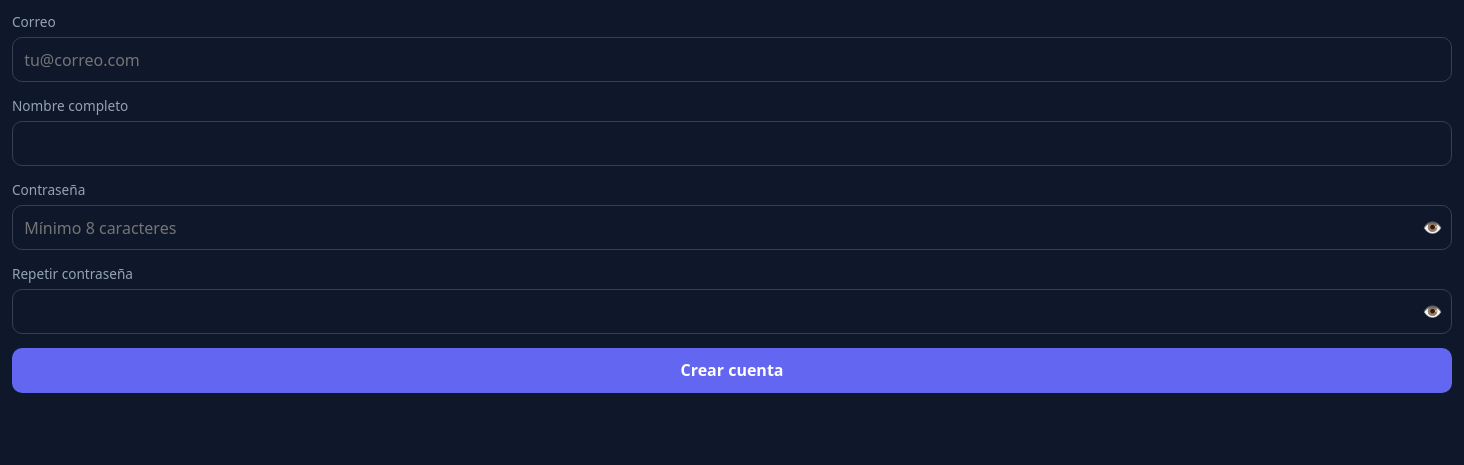
Test: RegisterForm › bloquea si las contraseñas no coinciden
This screenshot has width=1464, height=465.
Type "a@b.com" into the field labelled "Correo" at (732, 60), box [12,37,1452,82]
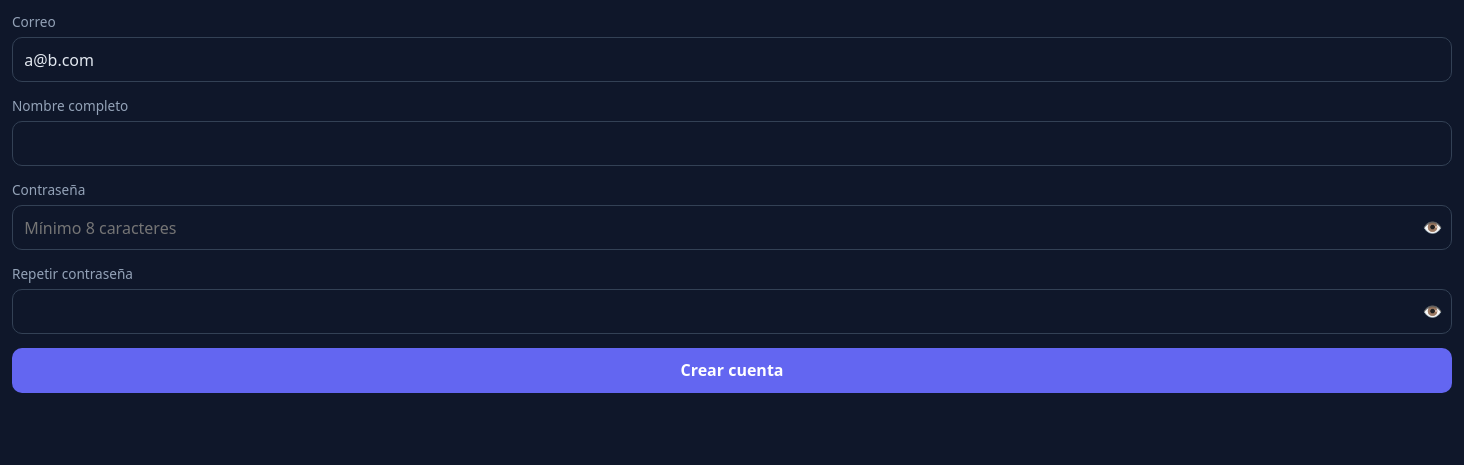
Type "Ana" into the field labelled "Nombre completo" at (732, 144), box [12,121,1452,166]
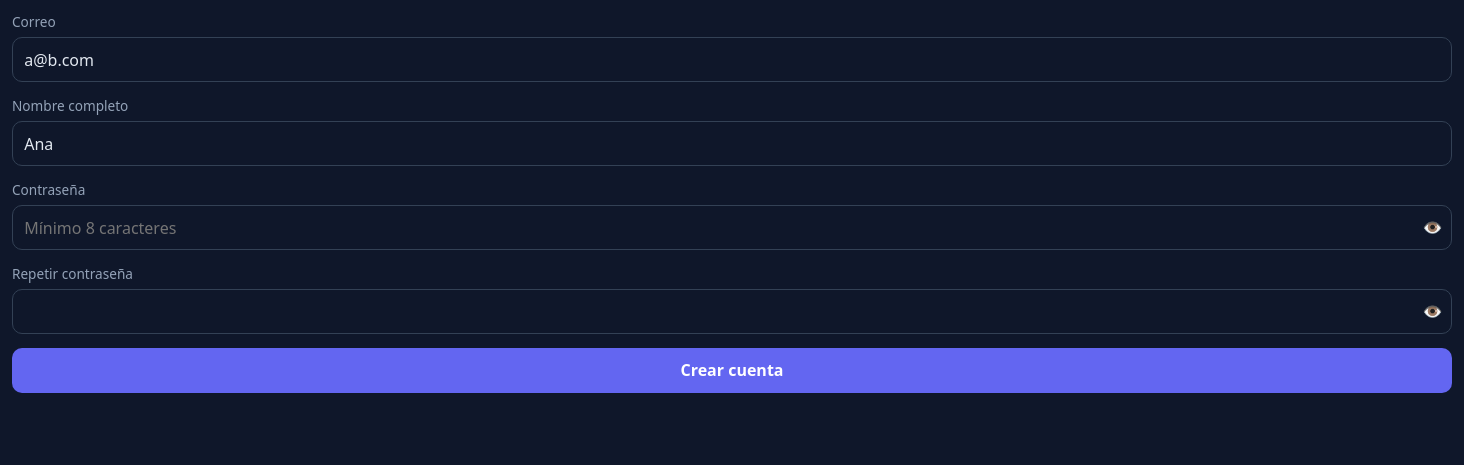
Type "secret123" into the password field labelled "Contraseña" at (732, 228), box [12,205,1452,250]
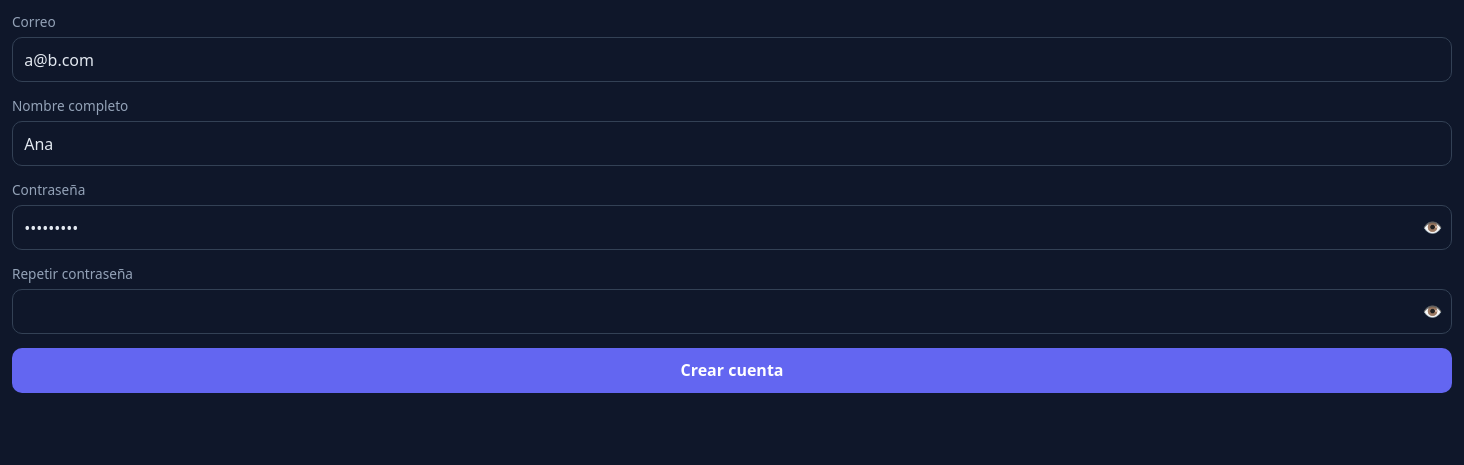
Type "otra12345" into the password field labelled "Repetir contraseña" at (732, 312), box [12,289,1452,334]
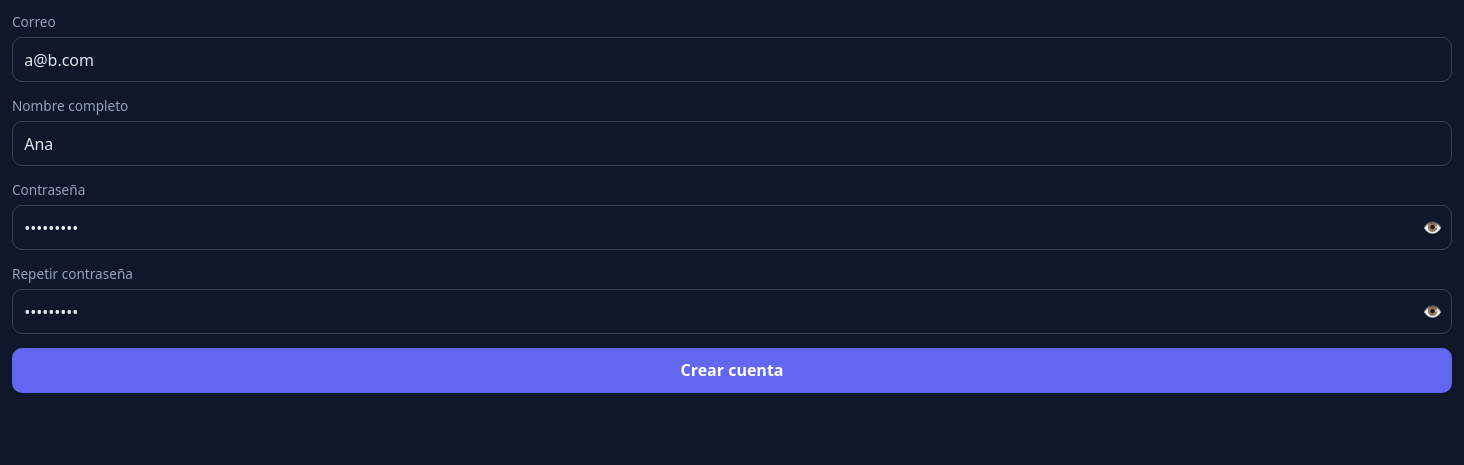
Click the button "Crear cuenta" at (732, 370), box [12,348,1452,393]
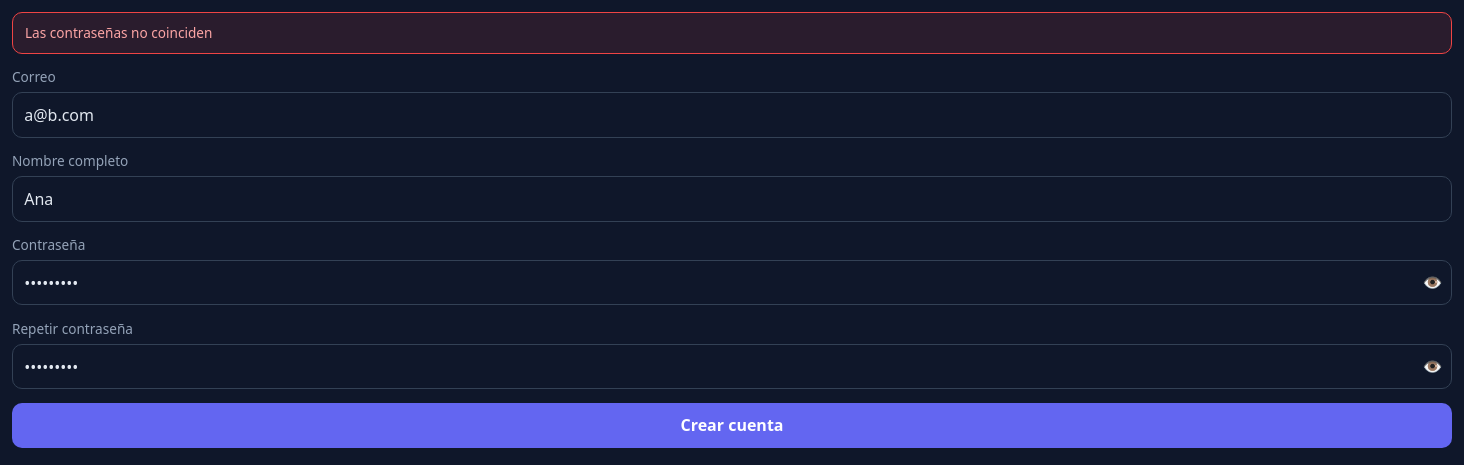
Now the message shows "no coinciden", box [25,23,212,42]
